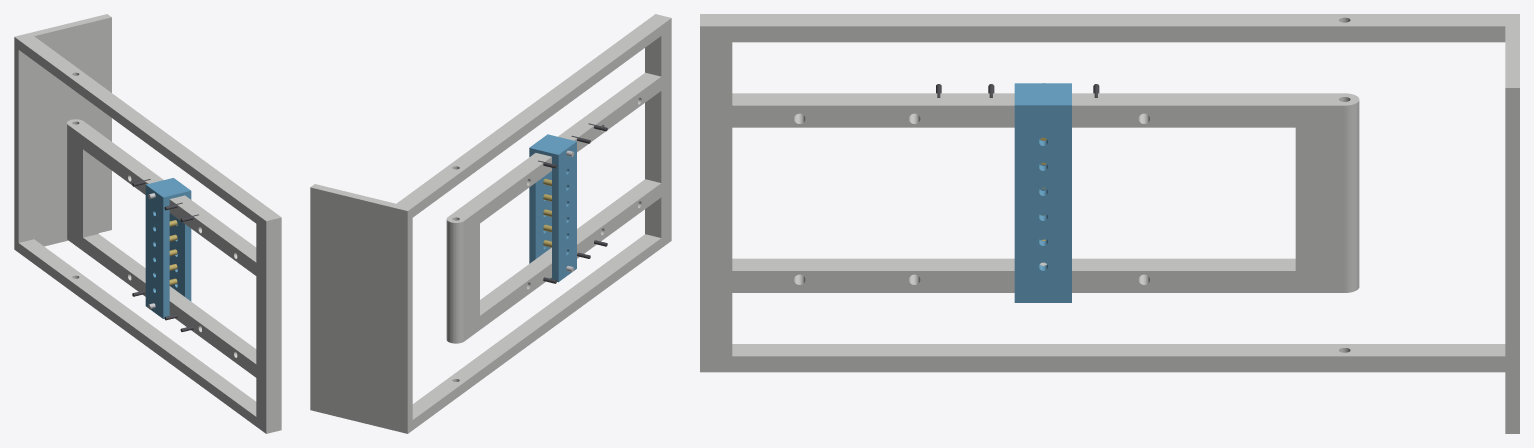
The model's file is static_1.glb.
3 renders of one model, left to right at view 1: azimuth 30°, elevation 25°; view 2: azimuth 150°, elevation 25°; view 3: azimuth 270°, elevation 25°, orthographic. The views are drawn at different scales.
Parts seen in each view (by area): view 1: world; view 2: world; view 3: world.
Boxes of the visible parts, box(x1,y1,x2,y2) form: world: box(14, 14, 281, 433); world: box(310, 14, 671, 433); world: box(700, 14, 1519, 433).
Bounding box in the file's own units: 0.0854 × 0.1662 × 0.3569.
